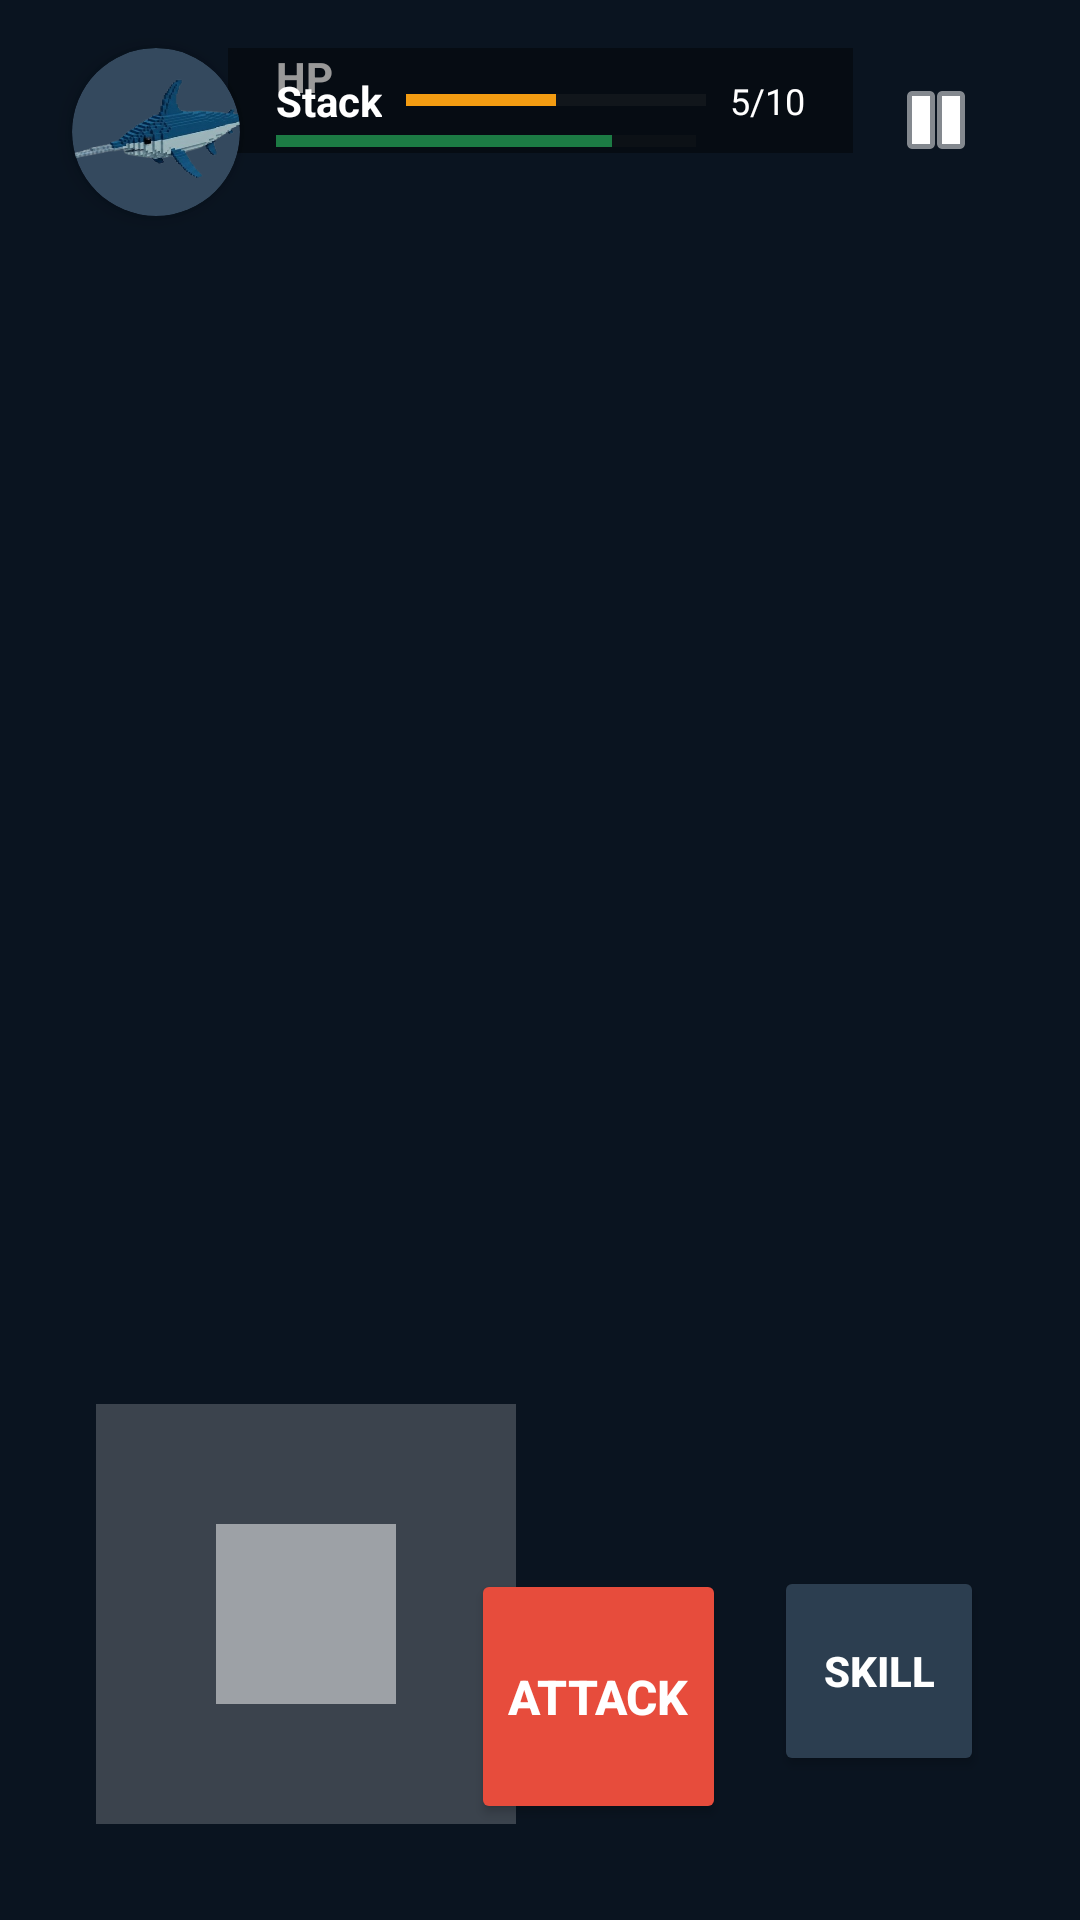

Screen size 1080×1920. Icon name, then its box in pixels as (x1, y1, x2, y2):
hero: (72, 48, 240, 216)
pause: (907, 91, 965, 149)
